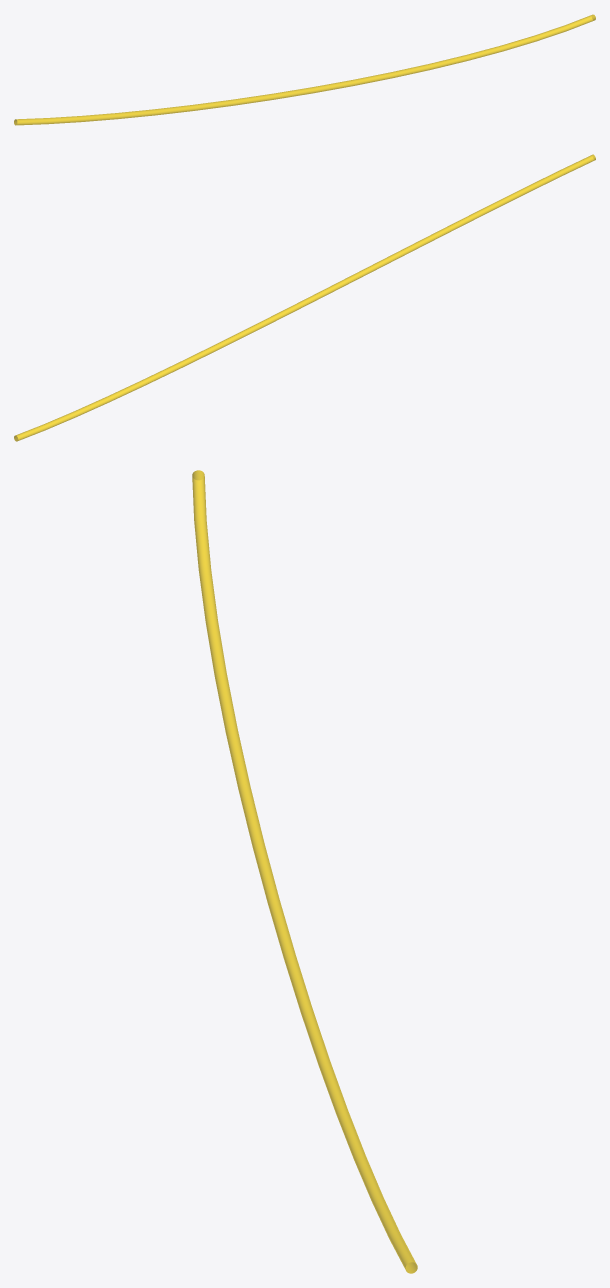
File: Event_84804159_track_81.fbx
3 renders of one model, top to bottom at view 1: azimuth 30°, elevation 25°; view 2: azimuth 210°, elevation 25°; view 3: azimuth 270°, elevation 25°, orthographic. The views are drawn at different scales.
Visible parts, largest first — view 1: Model; view 2: Model; view 3: Model.
Part boxes in pixels (x1,y1,x2,y2): Model: (14,14,595,125); Model: (14,154,595,441); Model: (192,470,417,1273).
Size of the model in its own units: 4.65 by 0.6584 by 0.7174.
